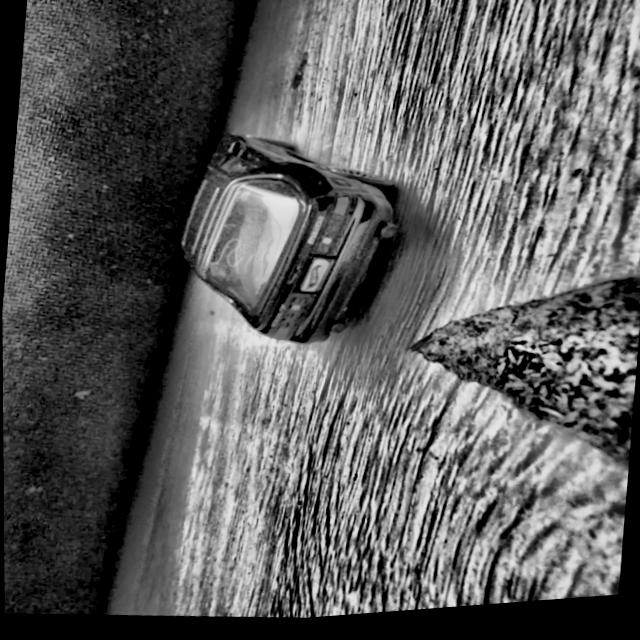car: (169, 122, 406, 364)
